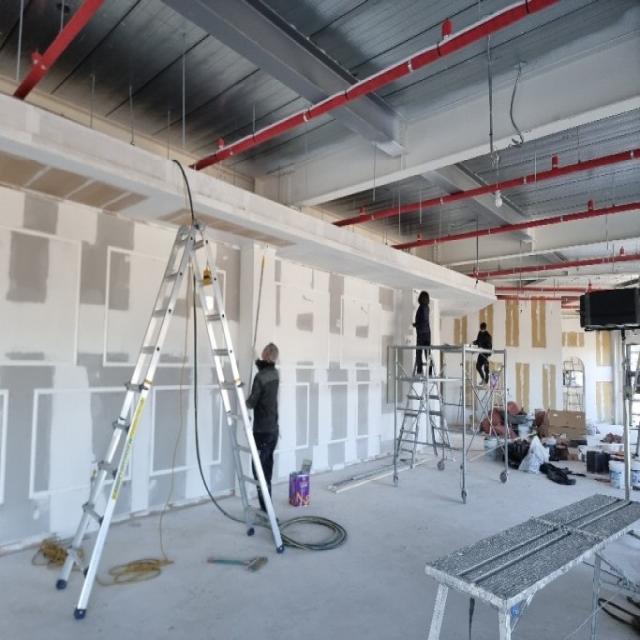plastic barrel: (608, 461, 624, 489), (630, 459, 640, 489), (484, 437, 497, 460)
roller: (248, 243, 270, 399)
square can: (289, 472, 310, 507), (490, 373, 500, 389)
